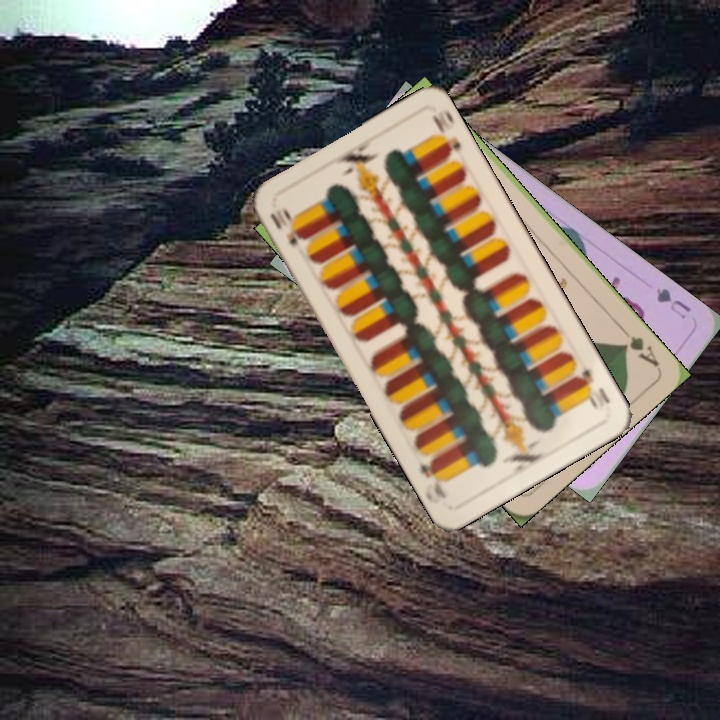E10: (572, 365, 613, 413), (266, 204, 307, 250)
GA: (616, 323, 662, 370)
GU: (652, 283, 694, 322)
